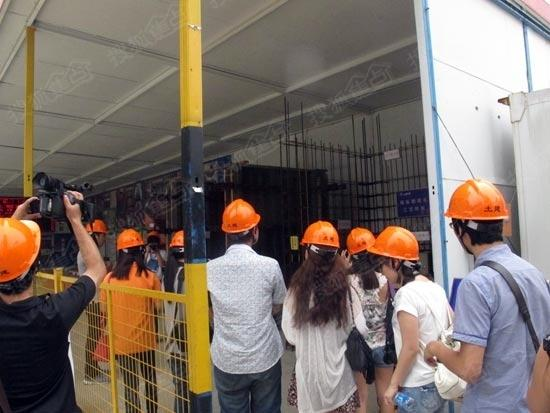Helmet: (222, 201, 261, 243)
NoVest: (210, 254, 284, 376)
